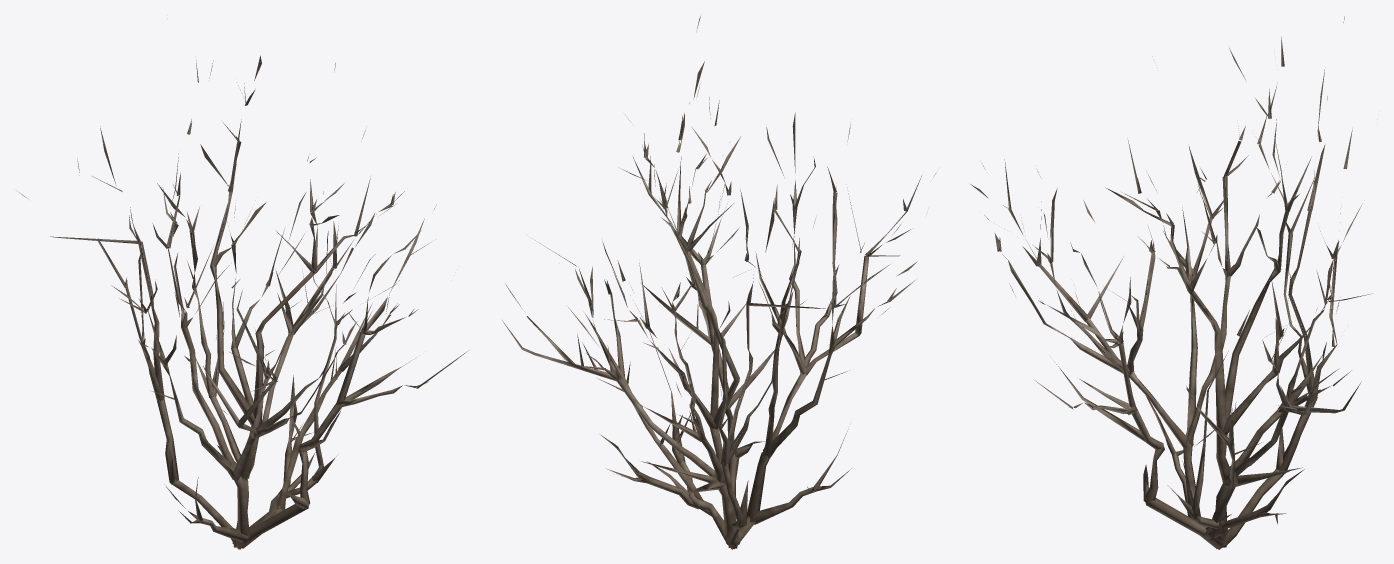
File: searsia_a.glb
The picture shows the model from 3 angles, left to right: view 1: azimuth 30°, elevation 25°; view 2: azimuth 150°, elevation 25°; view 3: azimuth 270°, elevation 25°; orthographic projection. The views are drawn at different scales.
Visible parts, largest first — view 1: lod0; view 2: lod0; view 3: lod0.
Boxes of the visible parts, bbox=[...] form: lod0: bbox=[16, 55, 468, 549]; lod0: bbox=[502, 16, 936, 549]; lod0: bbox=[970, 16, 1377, 549].
Size of what is drawn, in the model's own units: 1.38 by 1.97 by 1.39.
Materials: 1 (1 with a texture image).
